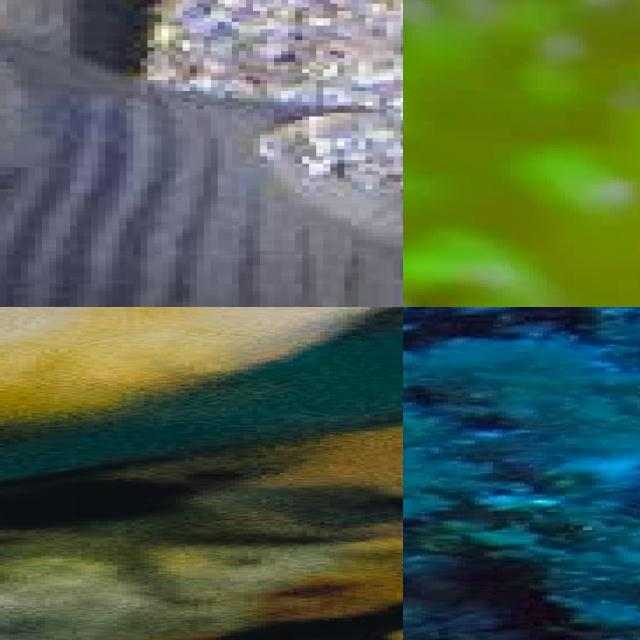fish: (0, 0, 403, 307), (403, 307, 640, 640), (403, 0, 640, 307)
